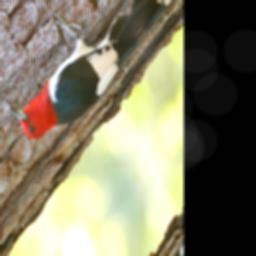Woodpecker: (0, 0, 143, 174)
